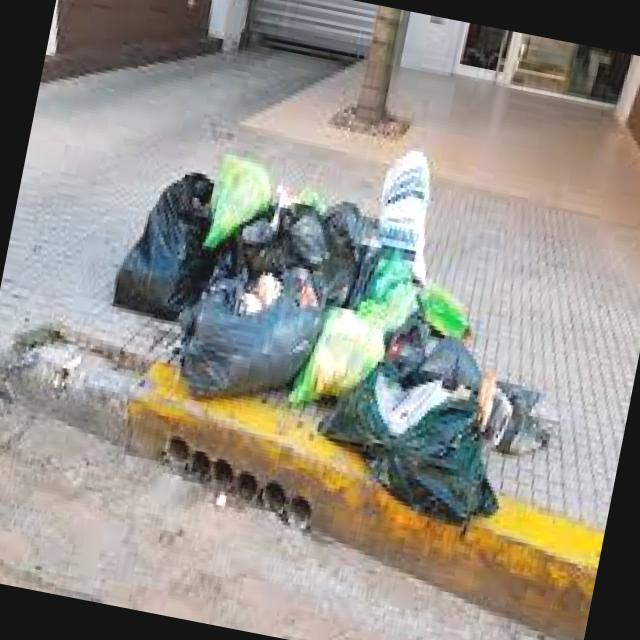garbage: (52, 93, 599, 572)
